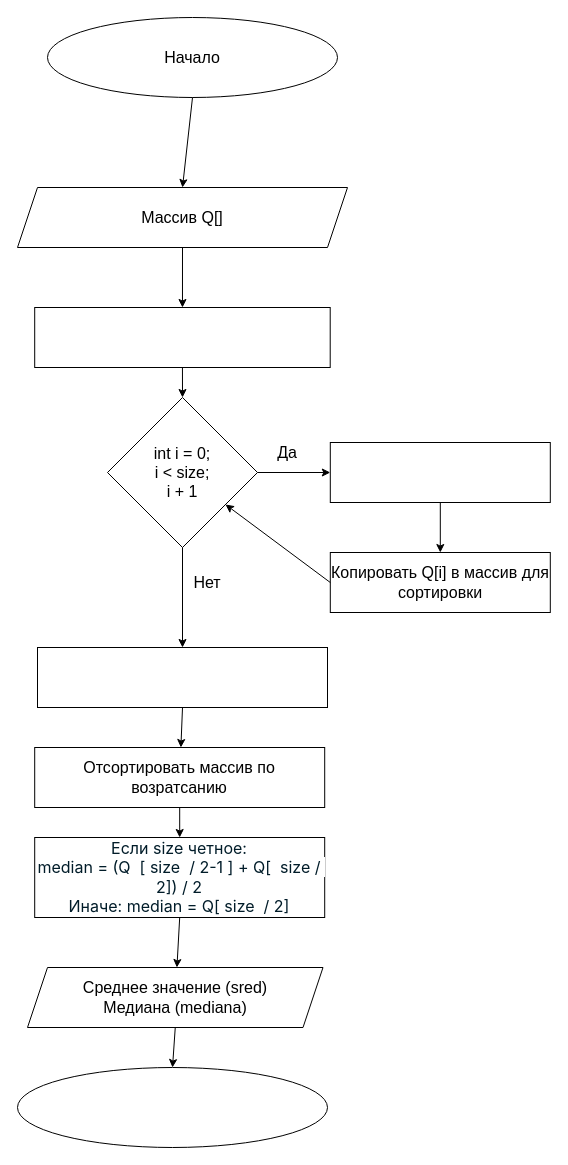
Image size: 568x1165. Some labels were removed from this diagram. The shapes that lost their labels are listed below. From the top down, each one's centre as x and y in pixels, then its label:
At [182,337]: "size = Количество элементов sum = 0".
At [439,472]: "sum = sum + Q[i]".
At [182,677]: "sred = sum / size".
At [172,1107]: "Конец".
